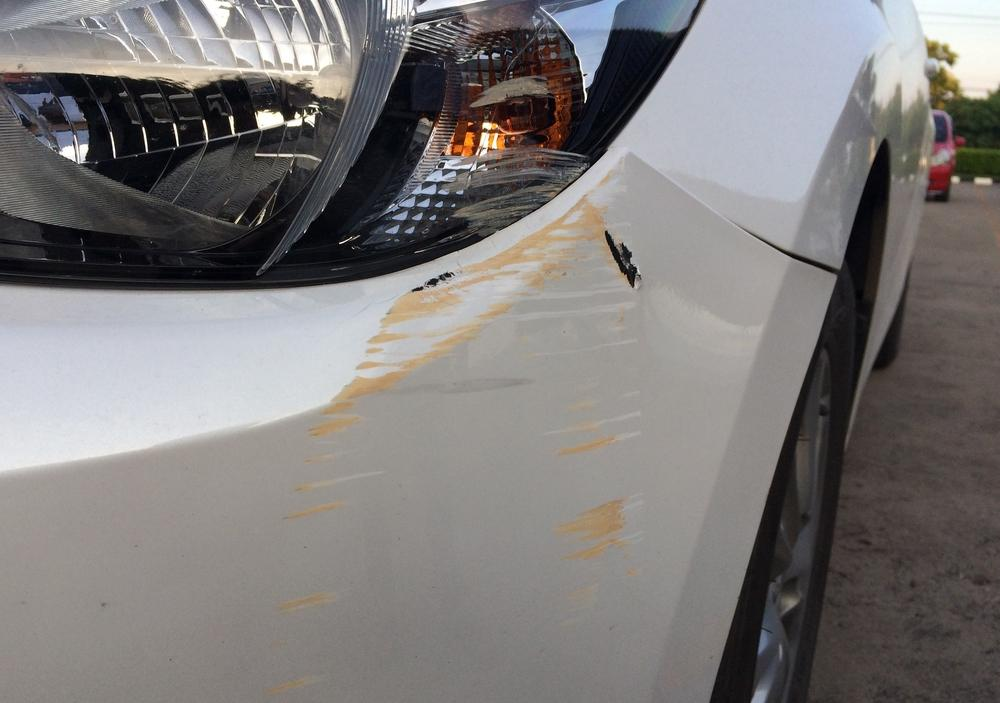scratch: (265, 168, 664, 703), (449, 75, 586, 232)
